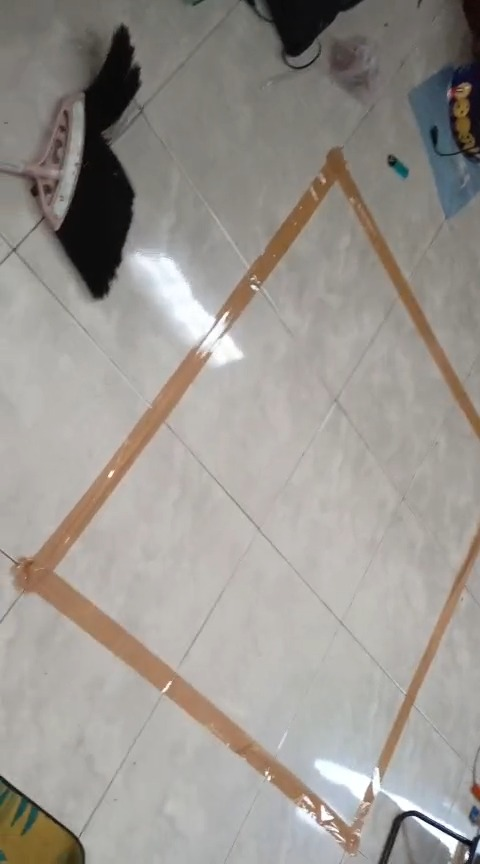floor marking: (14, 148, 479, 853)
